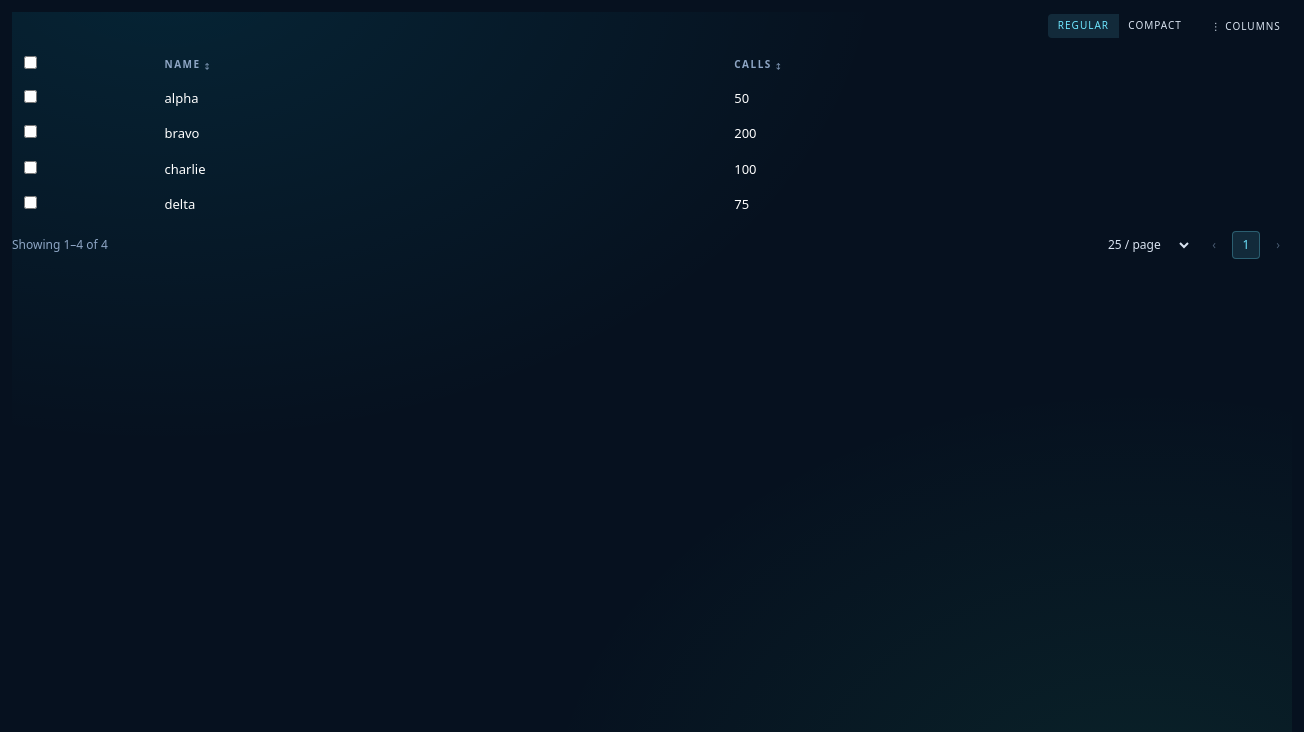
Test: <AdminDataTable /> › row selection: checkbox column appears + bulk bar shows count
# Select first row's checkbox (index 1, since index 0 is the page-all)
Click the checkbox named "Select row" next to "alpha" at (30, 96), box [24,90,37,103]
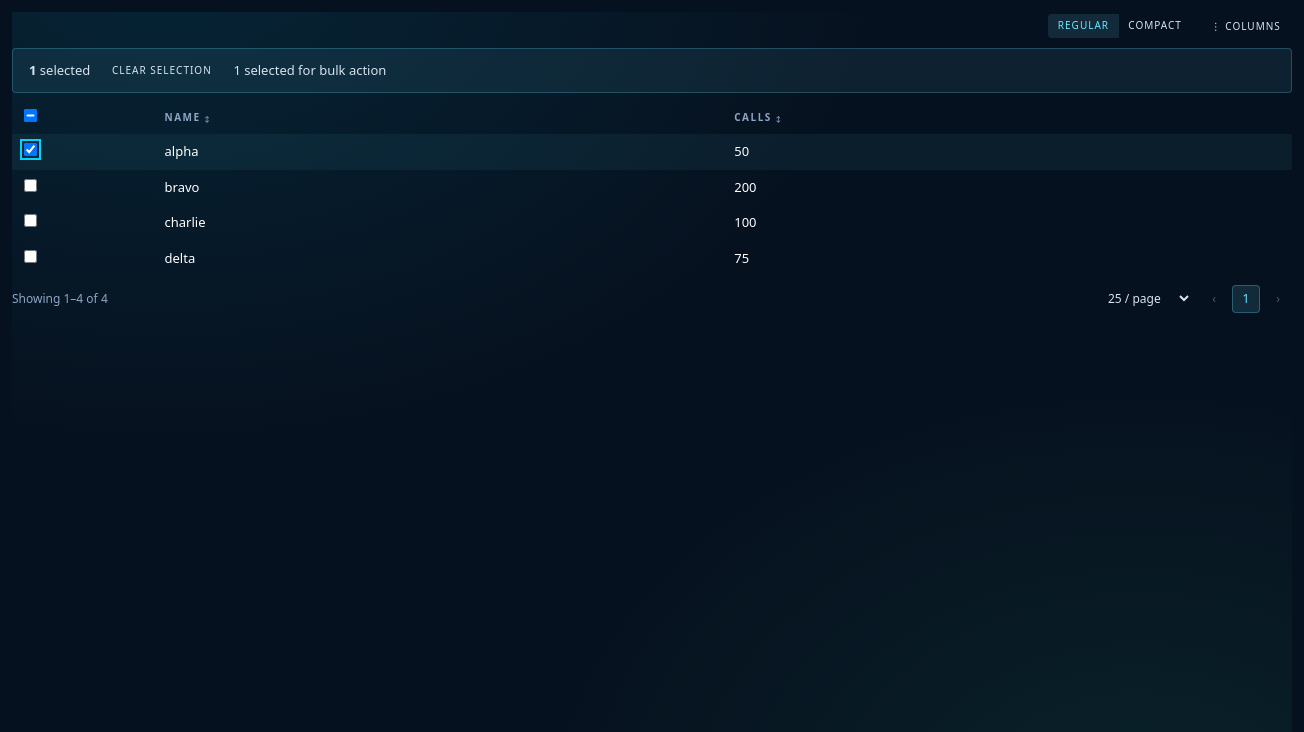
Expected: the text with test id "bulk" shows "1 selected", [233,61,386,80]
